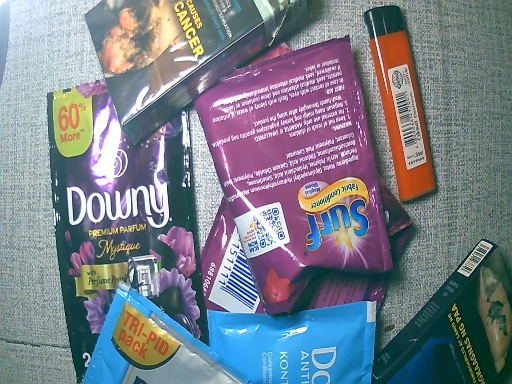cardboard: (79, 1, 323, 148), (372, 240, 510, 384)
plastic: (196, 23, 365, 318), (48, 86, 205, 384), (63, 302, 383, 384)
trash: (364, 7, 446, 207)
